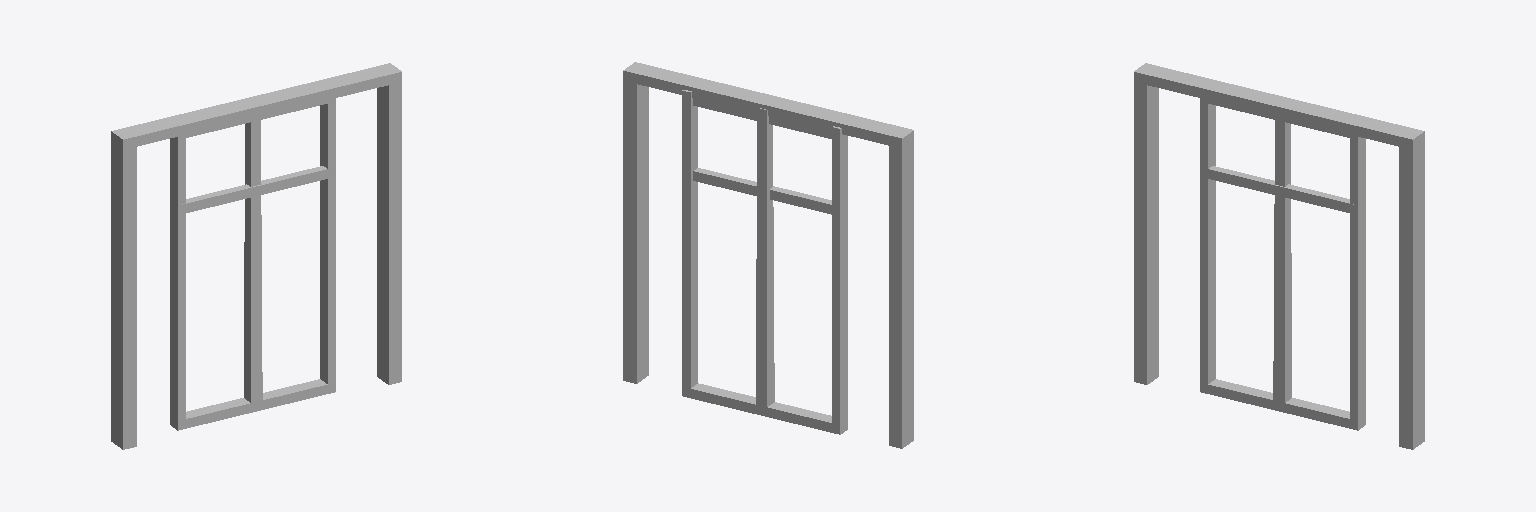
Rendered from door.obj.
3 renders of one model, left to right at view 1: azimuth 30°, elevation 25°; view 2: azimuth 150°, elevation 25°; view 3: azimuth 330°, elevation 25°, orthographic.
Parts seen in each view (by area): view 1: pCube4; view 2: pCube4; view 3: pCube4.
Boxes of the visible parts, <box> form: pCube4: <box>111,63,401,449</box>; pCube4: <box>623,62,913,448</box>; pCube4: <box>1134,63,1424,449</box>.
Size of the model in its own units: 0.7907 by 0.8398 by 0.0653.